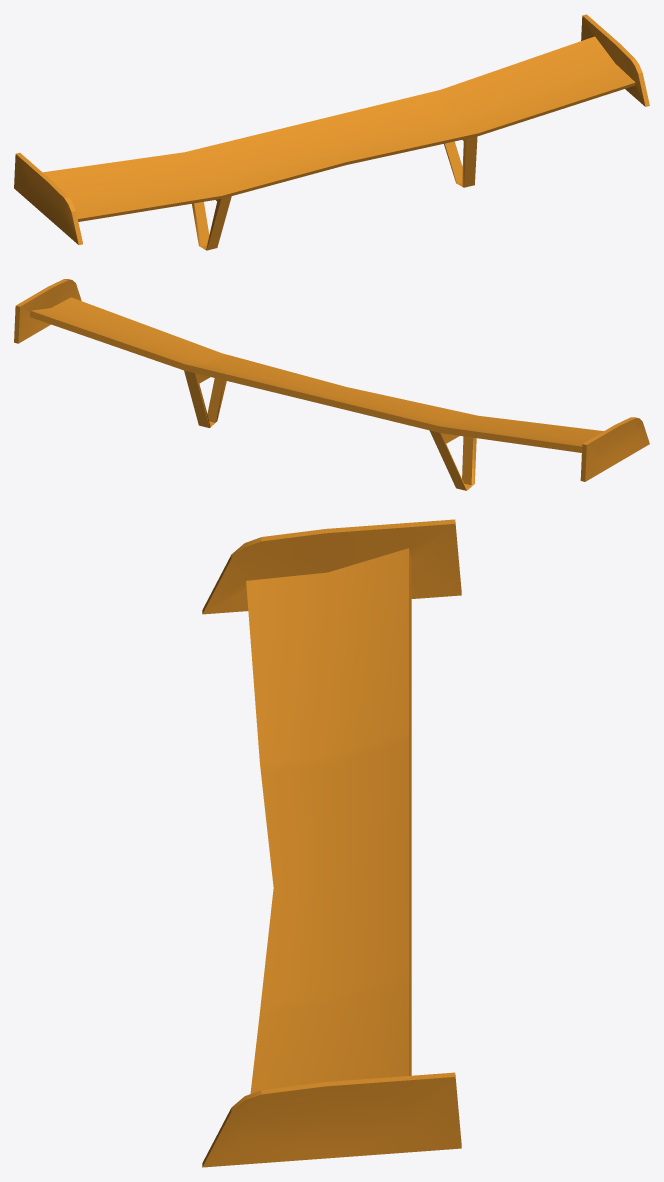
Rendered from protoCompact_spoiler_1.glb.
The picture shows the model from 3 angles, top to bottom: view 1: azimuth 30°, elevation 25°; view 2: azimuth 150°, elevation 25°; view 3: azimuth 270°, elevation 25°; orthographic projection. The views are drawn at different scales.
Parts seen in each view (by area): view 1: spoiler_1; view 2: spoiler_1; view 3: spoiler_1.
Boxes of the visible parts, x1,y1,x2,y2 form: spoiler_1: (14,14,649,250); spoiler_1: (14,279,649,490); spoiler_1: (202,519,461,1167).
Bounding box in the file's own units: 1.52 × 0.2698 × 0.2987.
